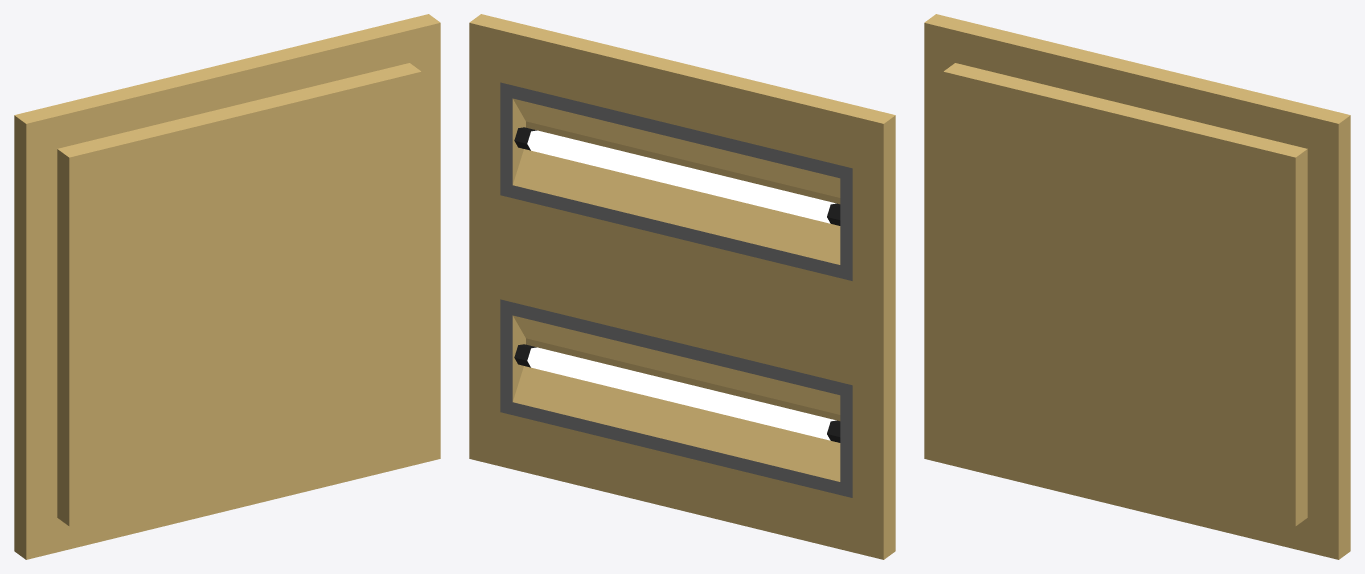
Rendered from Industrial_New_Wall_Panel_Light_Double.fbx.
3 views of the same model, side by side, from view 1: azimuth 30°, elevation 25°; view 2: azimuth 150°, elevation 25°; view 3: azimuth 330°, elevation 25° (orthographic).
Visible parts, largest first — view 1: Cube.007; view 2: Cube.007; view 3: Cube.007.
Boxes of the visible parts, <box> form: Cube.007: <box>14,14,440,559</box>; Cube.007: <box>469,14,895,559</box>; Cube.007: <box>924,14,1350,559</box>.
Bounding box in the file's own units: 200 × 201 × 20.
